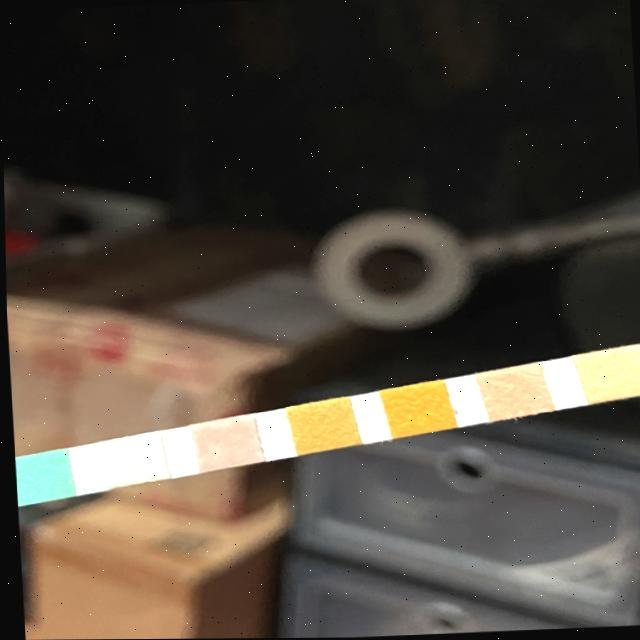Bilirubin: (101, 439, 160, 481)
Blood: (386, 386, 447, 433)
Glucose: (13, 455, 67, 498)
Ketone: (192, 421, 256, 465)
Protein: (583, 351, 640, 398)
SpGravity: (293, 404, 351, 449)
pH: (483, 369, 543, 416)
